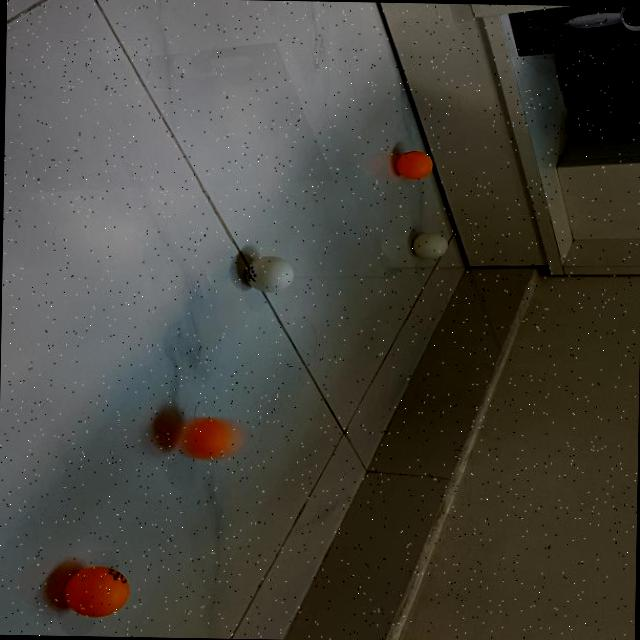ping-pong-ball: (62, 568, 130, 616), (172, 418, 238, 462), (244, 255, 292, 292), (396, 150, 432, 180), (412, 232, 446, 259)
